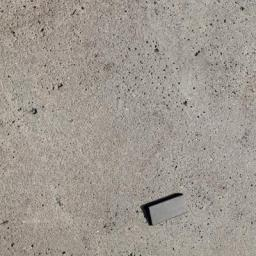FOD: (140, 193, 194, 228)
